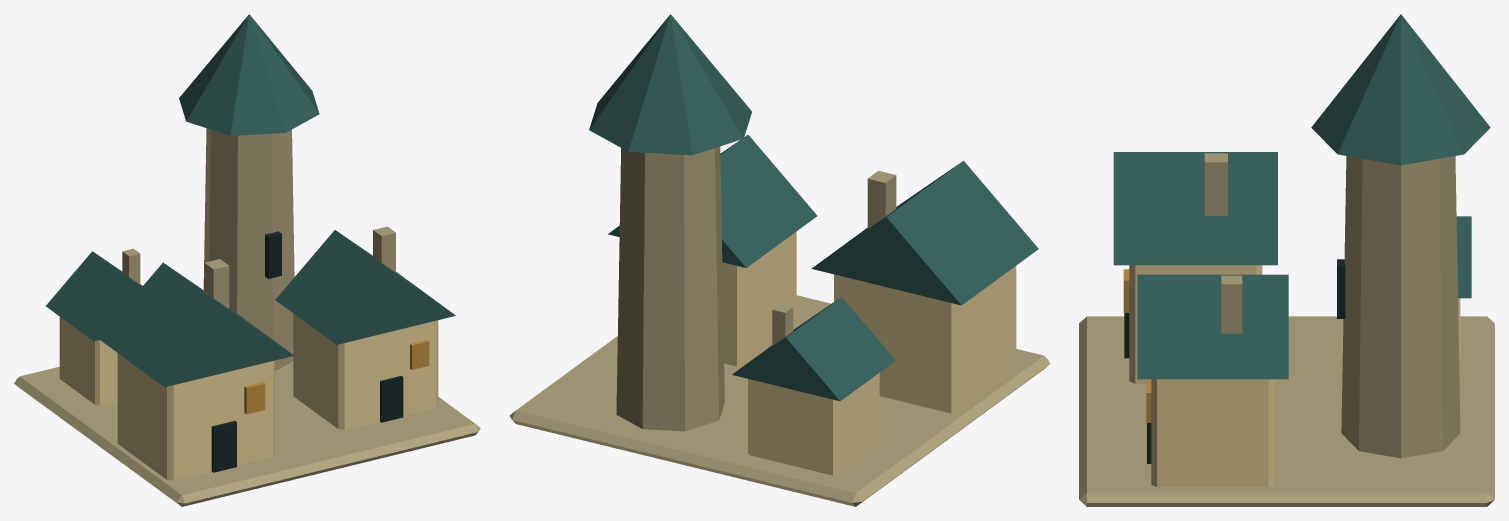
Rendered from town.glb.
The picture shows the model from 3 angles, left to right: view 1: azimuth 30°, elevation 25°; view 2: azimuth 150°, elevation 25°; view 3: azimuth 270°, elevation 25°; orthographic projection. The views are drawn at different scales.
Parts seen in each view (by area): view 1: town; view 2: town; view 3: town.
Boxes of the visible parts, x1=… form: town: x1=14, y1=14, x2=480, y2=506; town: x1=509, y1=14, x2=1050, y2=506; town: x1=1079, y1=14, x2=1494, y2=506.
Bounding box in the file's own units: 0.762 × 0.84 × 0.73.
